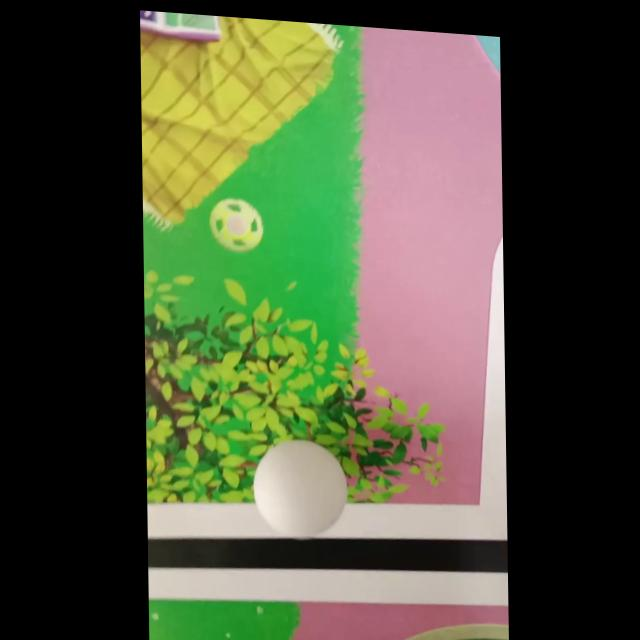white ball: (251, 435, 349, 541)
